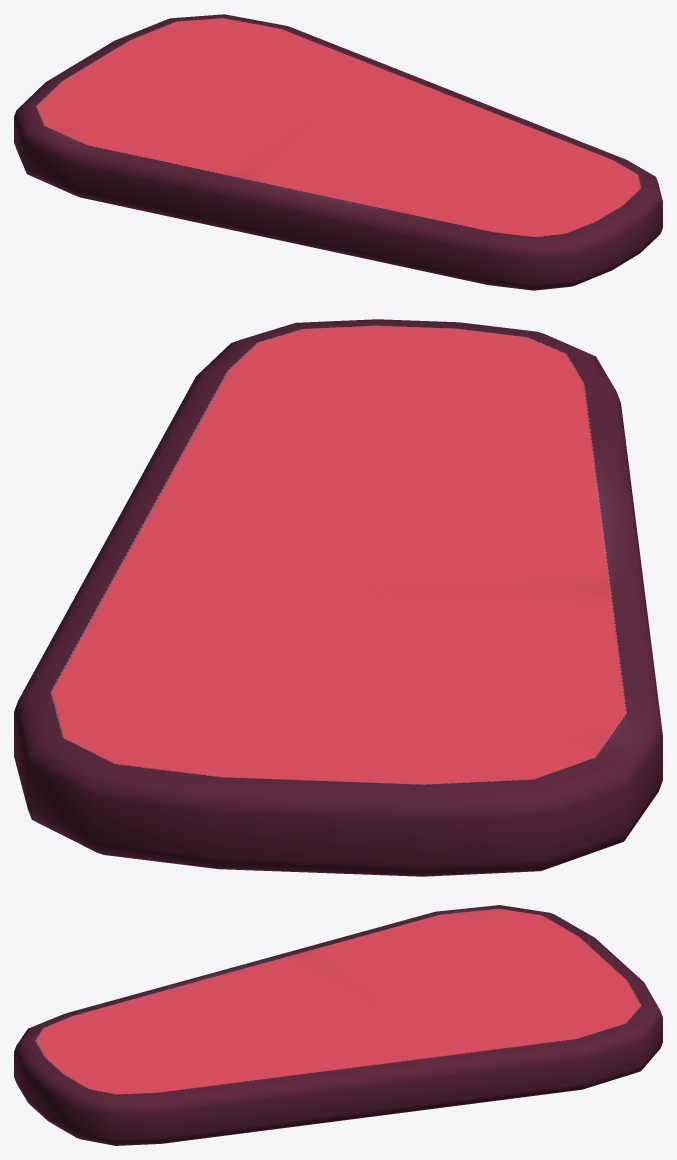
Rendered from prop-steak.FBX.
3 views of the same model, one above another, from view 1: azimuth 30°, elevation 25°; view 2: azimuth 150°, elevation 25°; view 3: azimuth 270°, elevation 25° (orthographic). The views are drawn at different scales.
Parts seen in each view (by area): view 1: prop_steak; view 2: prop_steak; view 3: prop_steak.
Boxes of the visible parts, left/top/right/bottom form: prop_steak: left=14, top=14, right=662, bottom=290; prop_steak: left=14, top=319, right=662, bottom=876; prop_steak: left=14, top=905, right=662, bottom=1145.
Bounding box in the file's own units: 19.24 × 25.92 × 2.11.
1 material, 1 textured.
